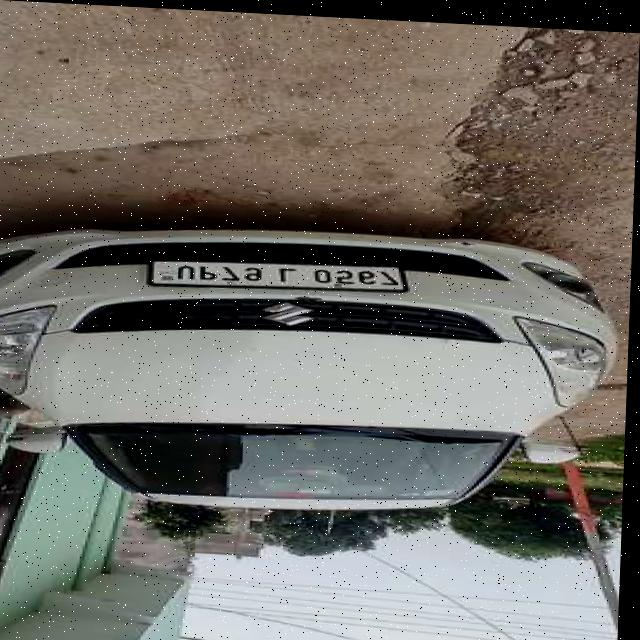plate: (148, 251, 407, 296)
